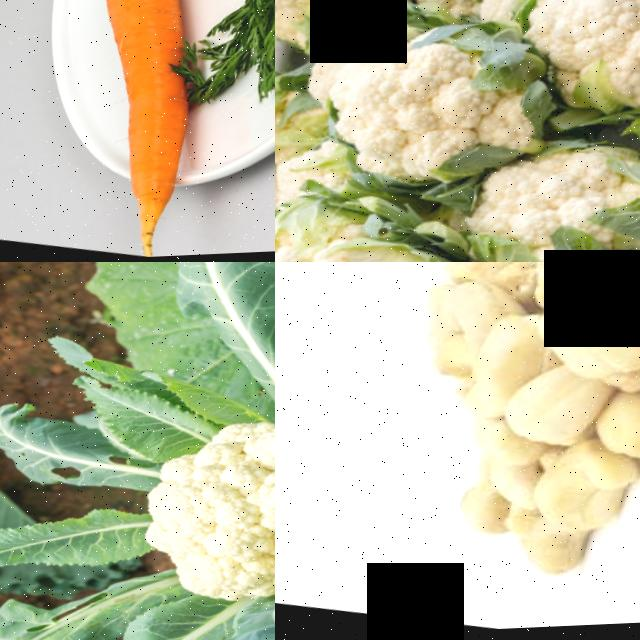carrot: (50, 0, 273, 234)
cashew: (541, 439, 640, 551), (503, 370, 614, 467), (545, 279, 640, 367), (573, 262, 640, 299)
cauliflower: (278, 2, 567, 195), (85, 376, 275, 640), (442, 111, 640, 262), (275, 171, 484, 262)
